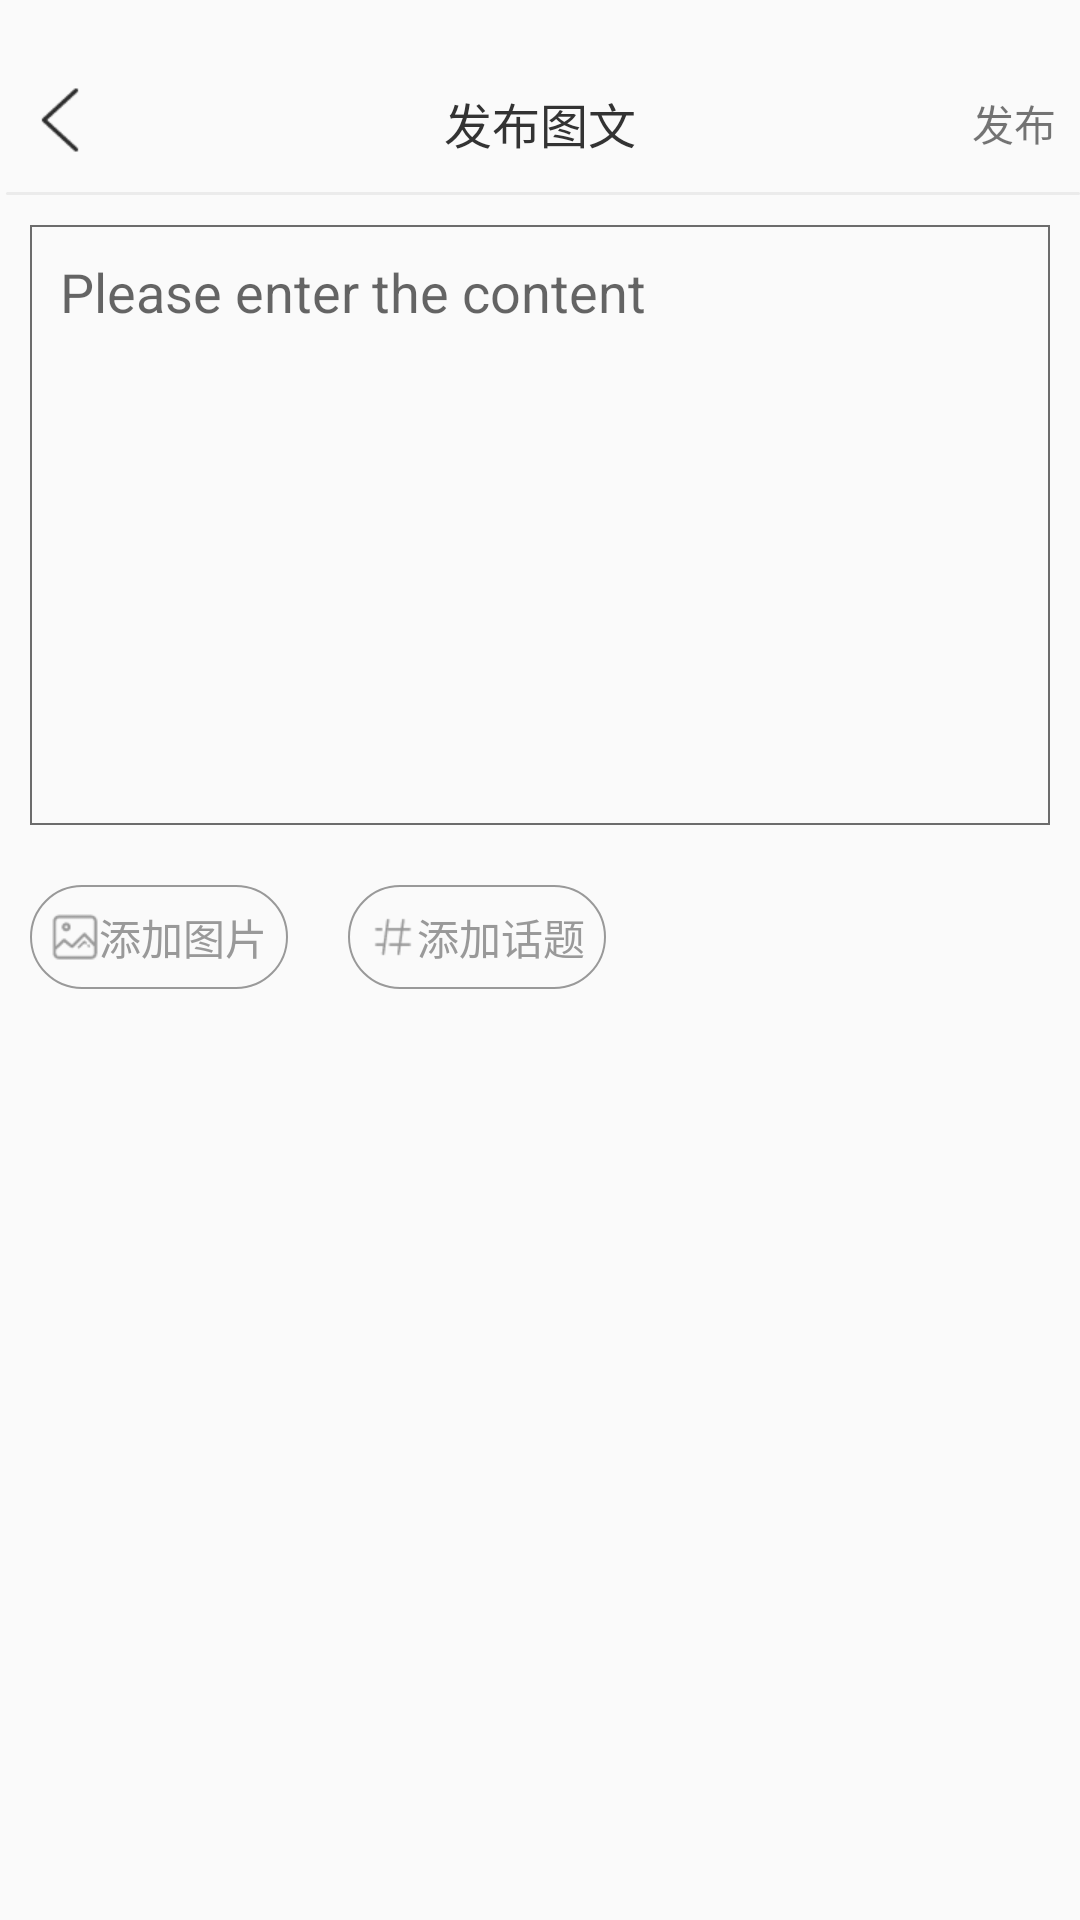

Icon click points for this 1080px×1920px phone screenshot, format (x,y):
fanhui: (60,120)
